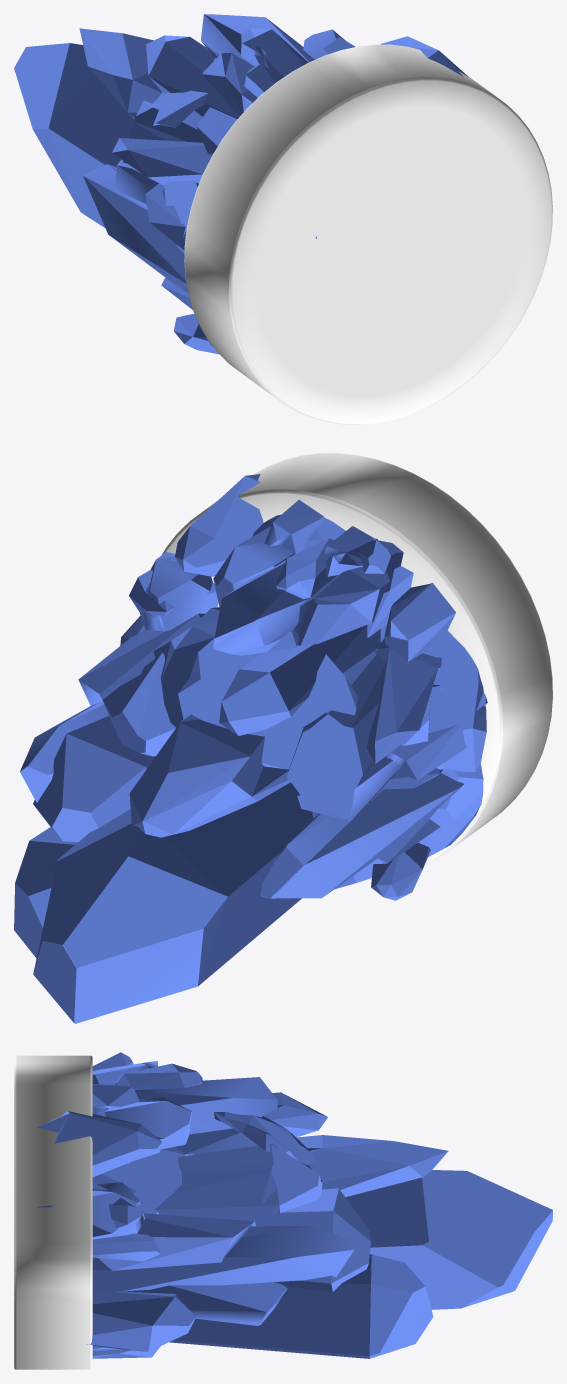
File: blue_crystal.fbx
3 renders of one model, top to bottom at view 1: azimuth 30°, elevation 25°; view 2: azimuth 150°, elevation 25°; view 3: azimuth 270°, elevation 25°, orthographic. The views are drawn at different scales.
Visible parts, largest first — view 1: imagetostl_mesh1, imagetostl_mesh0; view 2: imagetostl_mesh0, imagetostl_mesh1; view 3: imagetostl_mesh0, imagetostl_mesh1.
Part boxes in pixels (x1,y1,x2,y2): imagetostl_mesh1: [184, 44, 552, 424]; imagetostl_mesh0: [14, 14, 468, 354]; imagetostl_mesh0: [14, 474, 487, 1023]; imagetostl_mesh1: [161, 453, 552, 879]; imagetostl_mesh0: [37, 1052, 552, 1358]; imagetostl_mesh1: [14, 1055, 92, 1369].
Size of the model in its own units: 37.78 by 37.78 by 64.84.
